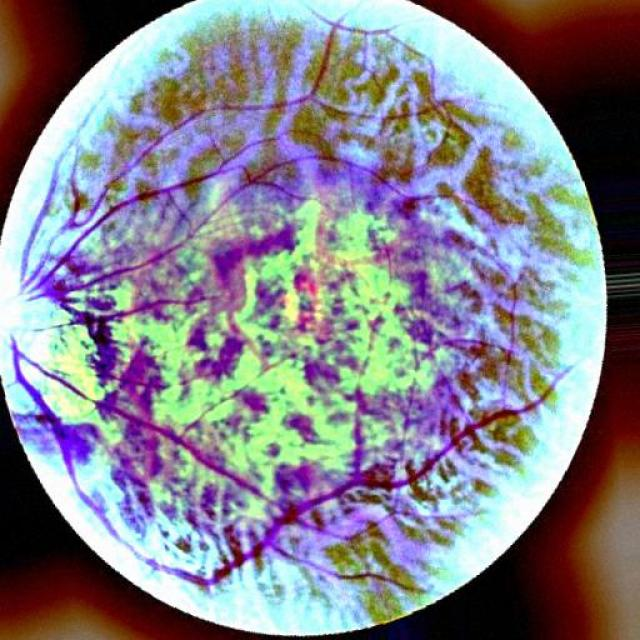Macula: (215, 228, 315, 317)
Nerves: (12, 348, 258, 555), (38, 173, 210, 295), (13, 124, 92, 300), (87, 160, 143, 219)
Optic Disk: (0, 216, 107, 538)
